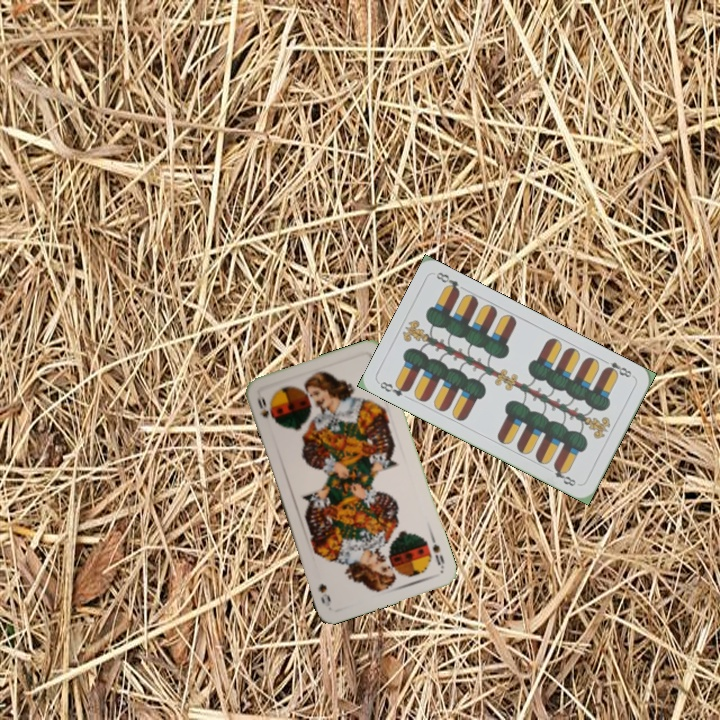E8: (599, 356, 637, 380), (376, 377, 412, 399)
SO: (427, 532, 447, 571), (253, 390, 271, 421)
